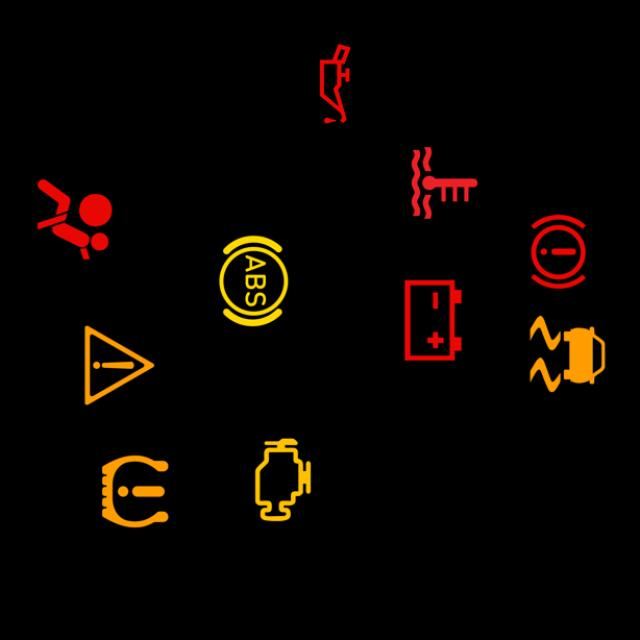Anti Lock Braking System: (204, 232, 304, 331)
Braking System Issue: (508, 202, 608, 301)
Charging System Issue: (383, 271, 482, 370)
Check Engine: (234, 430, 332, 530)
Electronic Stability Problem -ESP-: (518, 304, 617, 404)
Engine Overheating Warning Light: (395, 134, 494, 232)
Low Engine Oil Warning Light: (286, 34, 384, 134)
Low Tire Pressure Warning Light: (86, 442, 184, 541)
Master warning light: (70, 316, 169, 415)
SRS-Airbag: (25, 170, 124, 269)
